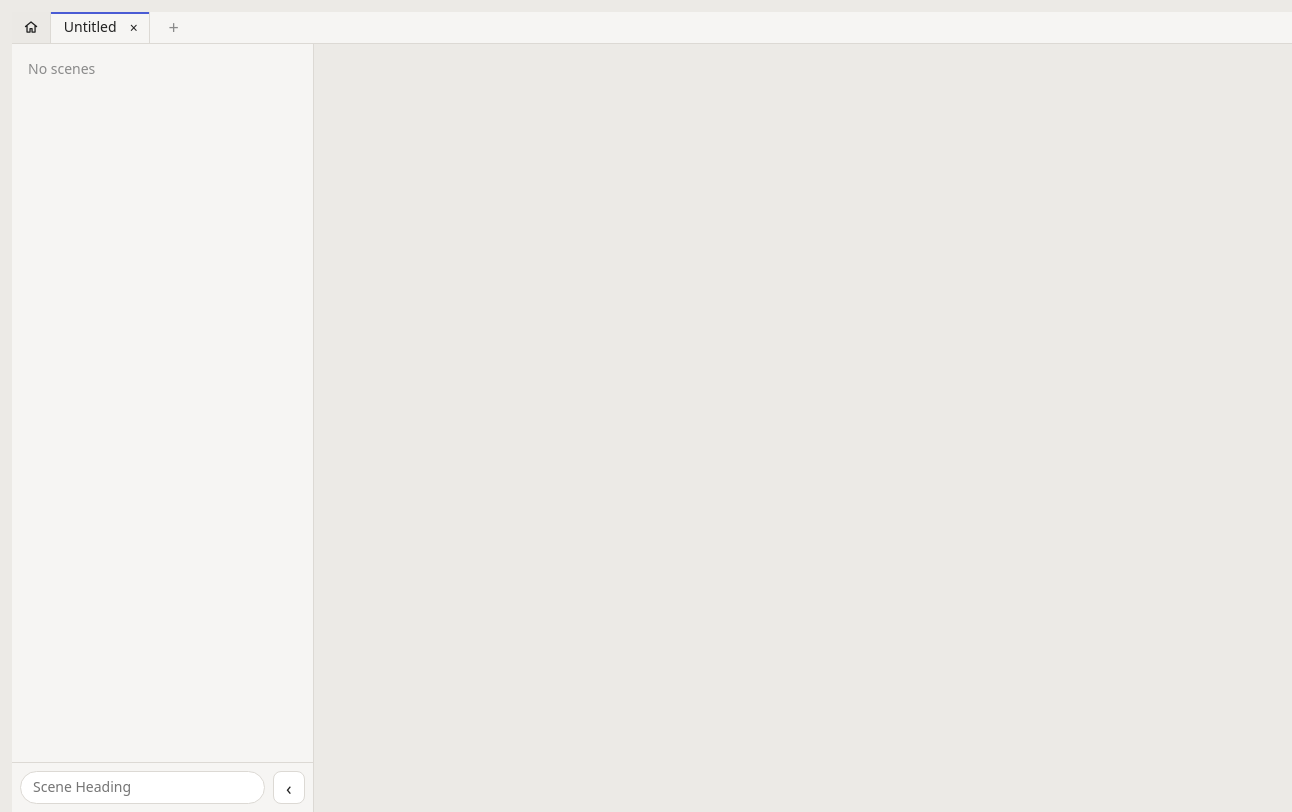
Test: App › tabs › opens a new tab from its button, numbering untitled documents
Click the button named "New Document": x=174, y=27 [156,17,192,37]
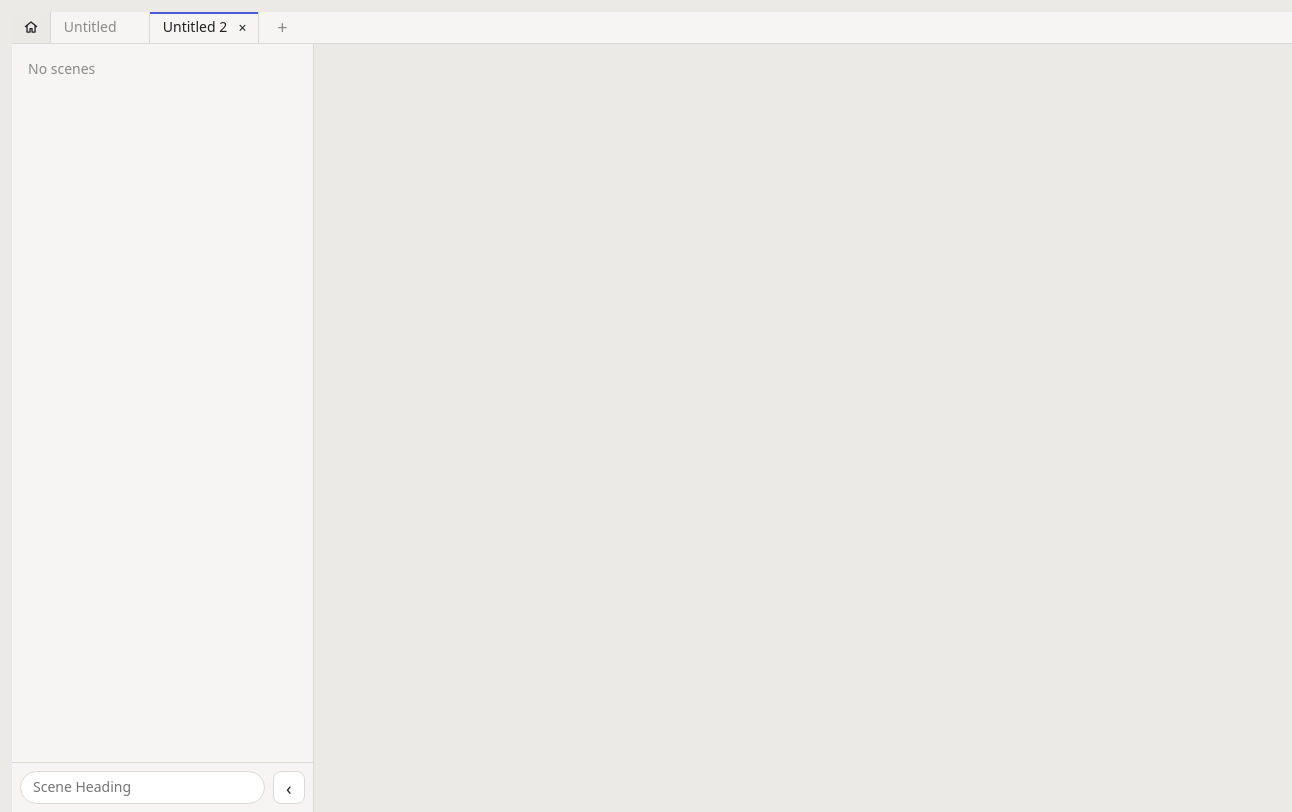
Expected: the tab "Untitled 2" is shown, [150,12,233,43]
